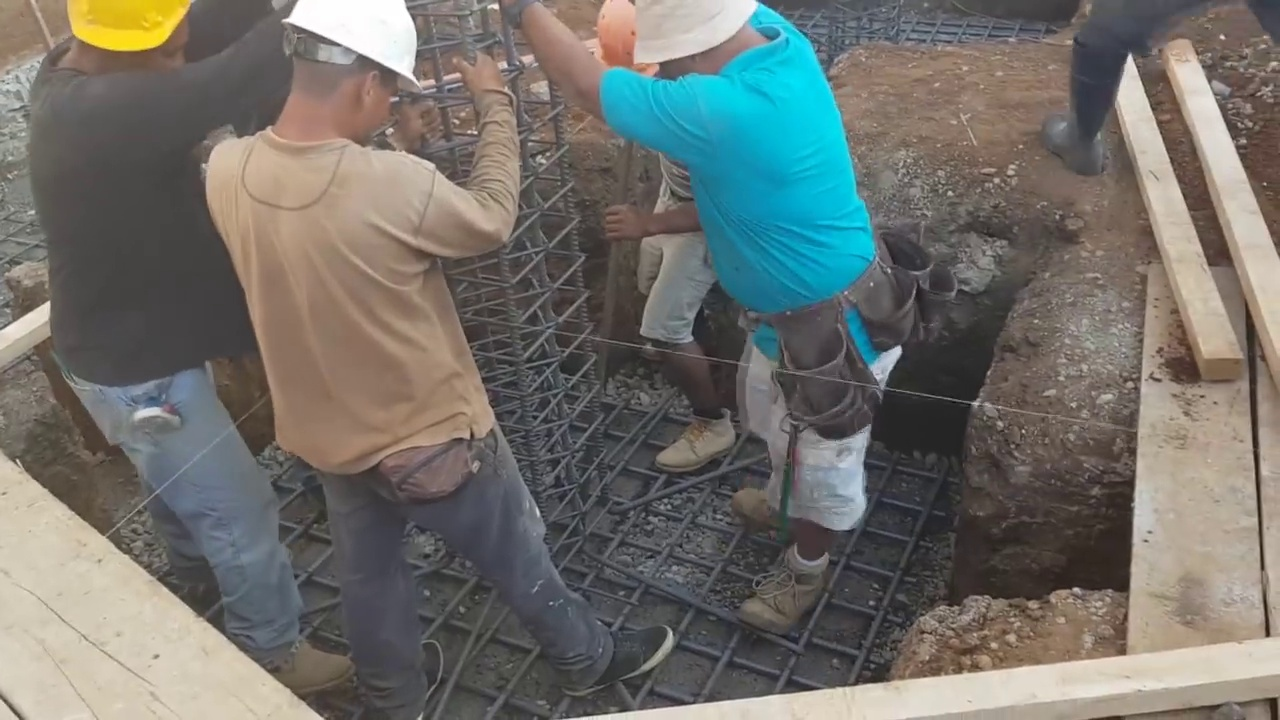helmet: (276, 3, 423, 87), (587, 6, 668, 83), (66, 5, 190, 50)
helmet-off: (640, 0, 782, 83)
helmet-on: (269, 1, 421, 152), (51, 3, 187, 93)
person: (198, 8, 670, 716), (526, 0, 914, 623), (22, 0, 352, 720), (585, 0, 726, 474)
